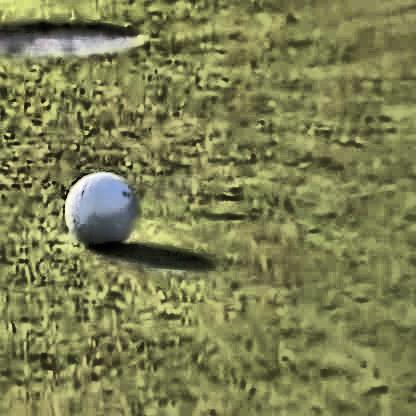golfball: (62, 167, 136, 243)
